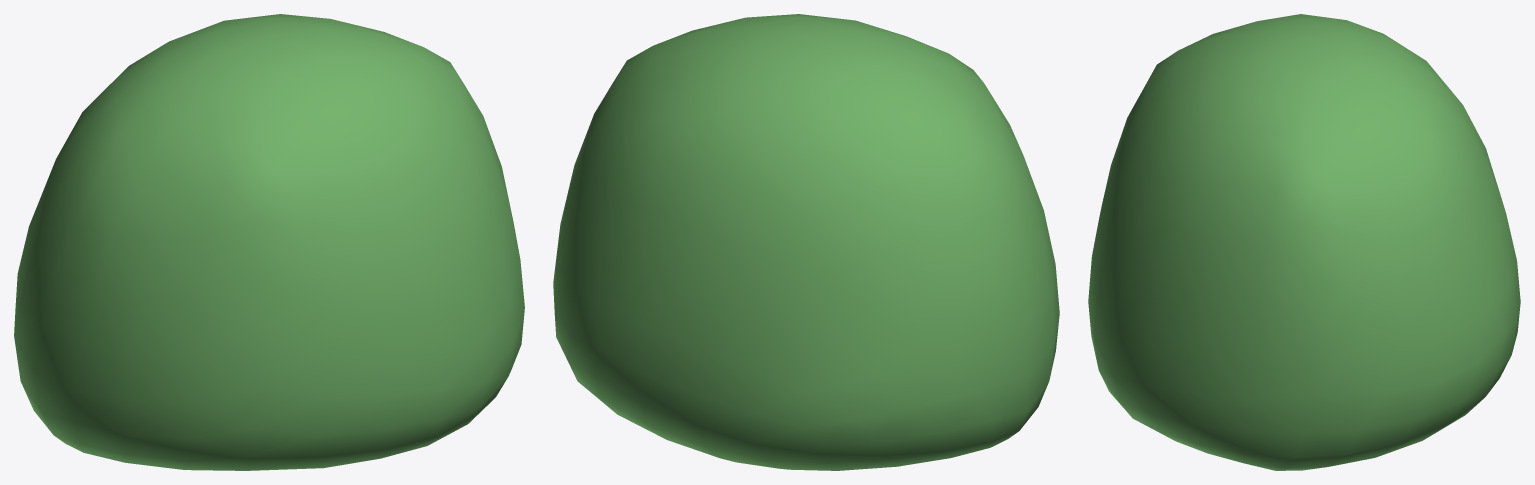
File: rounded-shrub.glb
The picture shows the model from 3 angles, left to right: view 1: azimuth 30°, elevation 25°; view 2: azimuth 150°, elevation 25°; view 3: azimuth 270°, elevation 25°; orthographic projection. The views are drawn at different scales.
Parts seen in each view (by area): view 1: leafsGreen; view 2: leafsGreen; view 3: leafsGreen.
Boxes of the visible parts, <box> form: leafsGreen: <box>14,14,524,470</box>; leafsGreen: <box>553,14,1059,470</box>; leafsGreen: <box>1088,14,1520,470</box>.
Bounding box in the file's own units: 1.21 × 0.9438 × 1.05.
